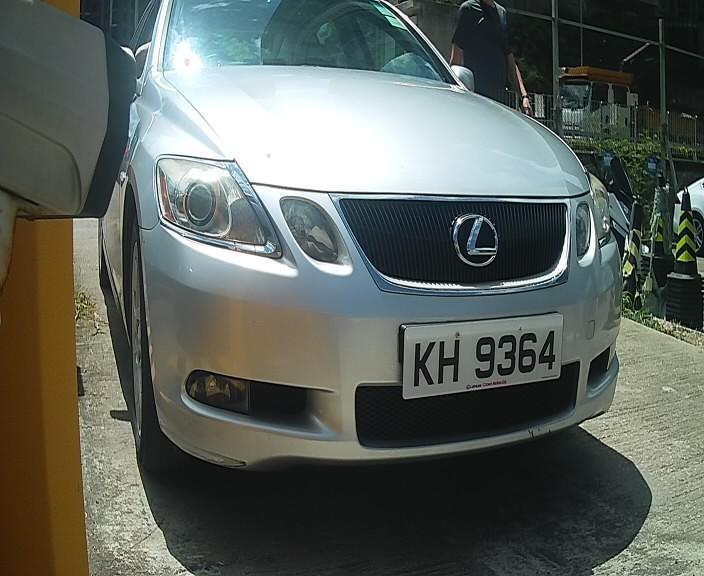License Plate: (390, 299, 572, 407)
